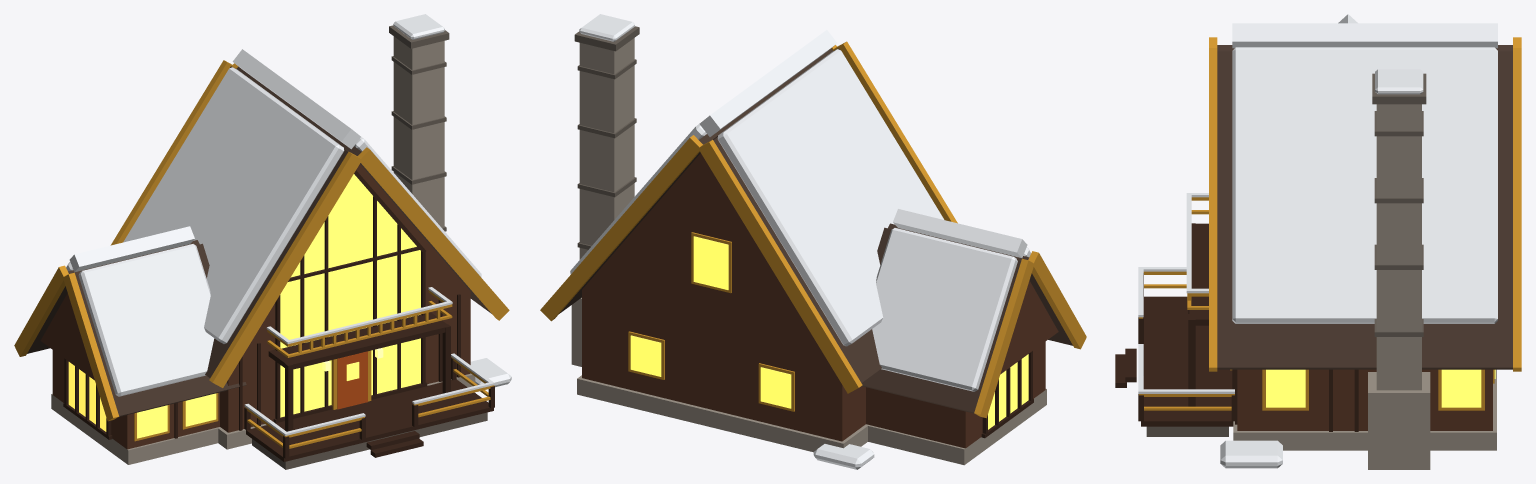
The model's file is lodge-tier-1-chalet70s.glb.
3 renders of one model, left to right at view 1: azimuth 30°, elevation 25°; view 2: azimuth 150°, elevation 25°; view 3: azimuth 270°, elevation 25°, orthographic. The views are drawn at different scales.
Visible parts, largest first — view 1: lodge-tier-1-chalet70s; view 2: lodge-tier-1-chalet70s; view 3: lodge-tier-1-chalet70s.
Part boxes in pixels (box(x1,y1,x2,y2)): lodge-tier-1-chalet70s: box(14, 14, 511, 469); lodge-tier-1-chalet70s: box(540, 14, 1086, 469); lodge-tier-1-chalet70s: box(1115, 14, 1521, 469).
Size of the model in its own units: 19.69 by 14.77 by 14.31.
